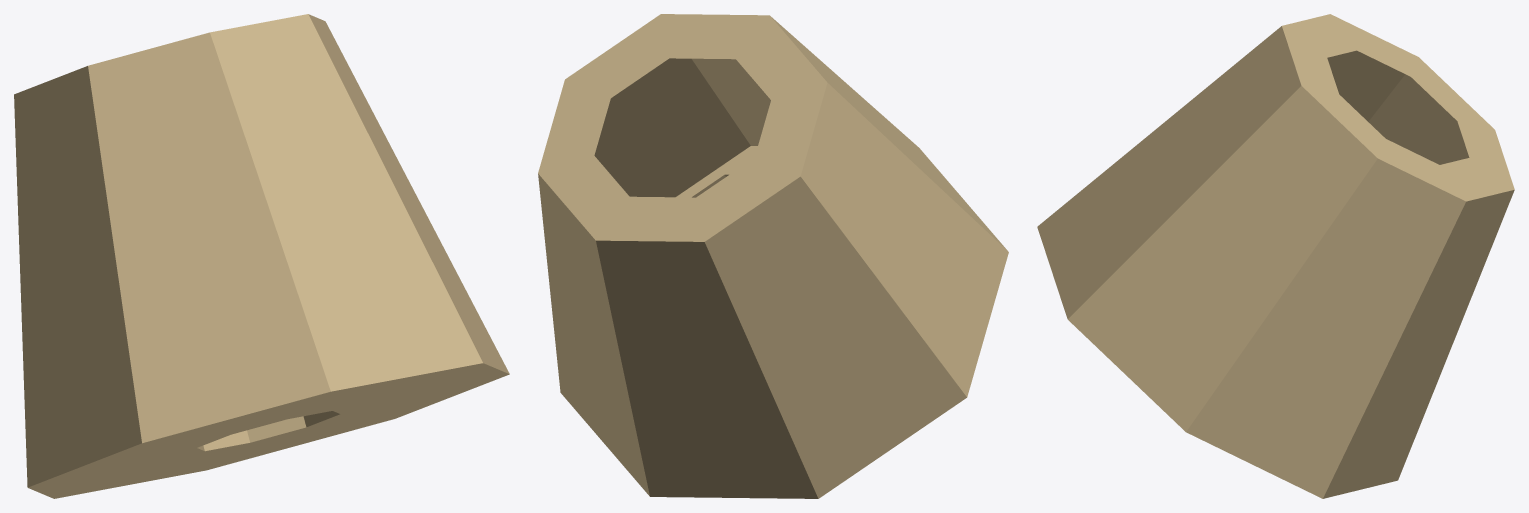
The model's file is micleftt.fbx.
3 renders of one model, left to right at view 1: azimuth 30°, elevation 25°; view 2: azimuth 150°, elevation 25°; view 3: azimuth 270°, elevation 25°, orthographic. The views are drawn at different scales.
Parts seen in each view (by area): view 1: Lamp; view 2: Lamp; view 3: Lamp.
Part boxes in pixels (left/top/right/bottom): Lamp: left=14, top=14, right=509, bottom=498; Lamp: left=538, top=14, right=1008, bottom=498; Lamp: left=1037, top=14, right=1514, bottom=498.
Size of the model in its own units: 58.08 by 62.84 by 63.6.
